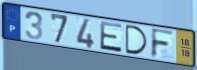3: (24, 10, 44, 41)
4: (75, 18, 96, 50)
7: (50, 12, 70, 45)
D: (124, 23, 150, 56)
E: (99, 20, 124, 54)
F: (150, 27, 176, 60)
